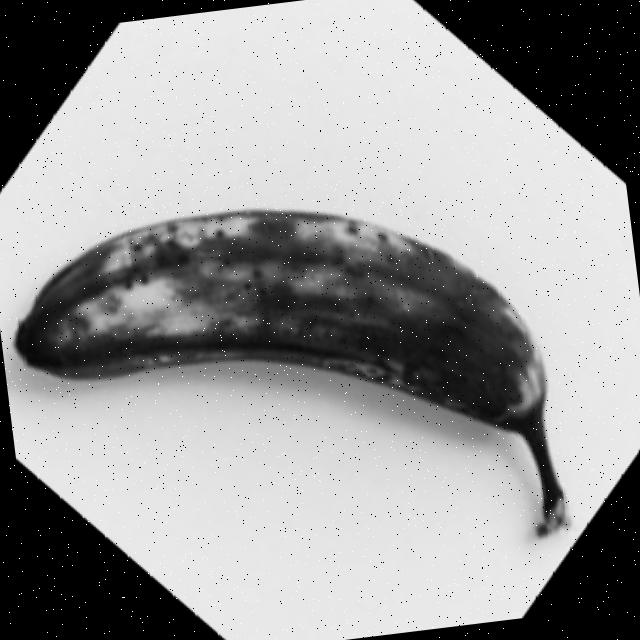Rotten: (1, 176, 576, 602)
